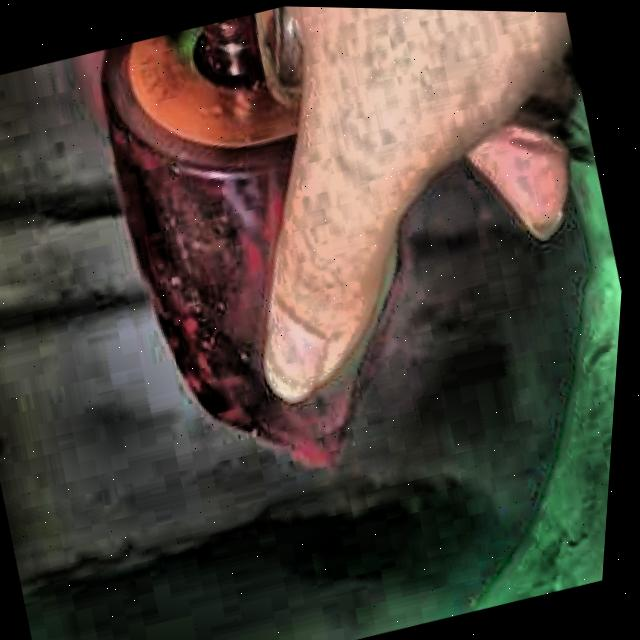glass: (106, 5, 398, 462)
